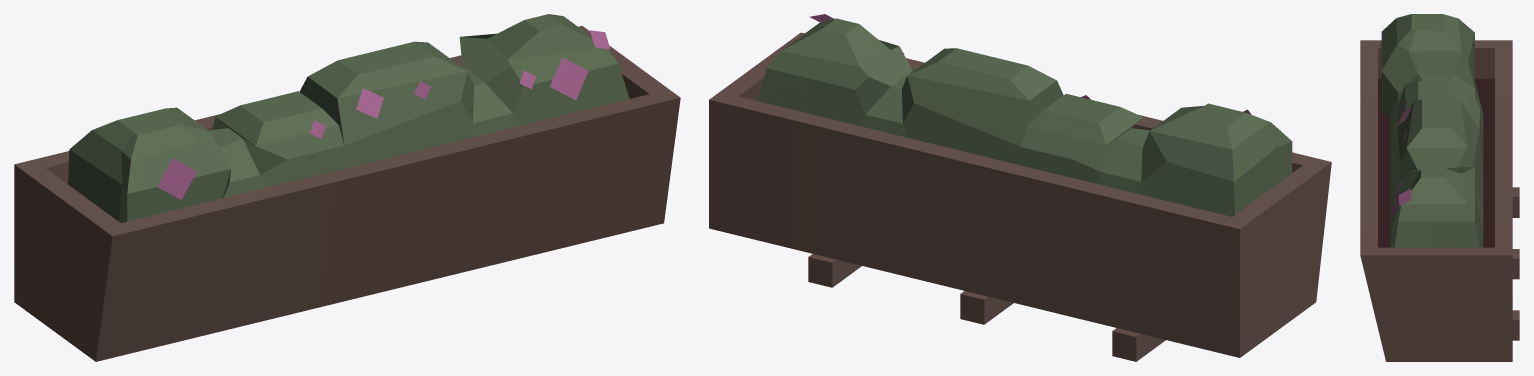
The model's file is B02_jardiniere.fbx.
3 renders of one model, left to right at view 1: azimuth 30°, elevation 25°; view 2: azimuth 150°, elevation 25°; view 3: azimuth 270°, elevation 25°, orthographic. The views are drawn at different scales.
Parts seen in each view (by area): view 1: B02_jardiniere; view 2: B02_jardiniere; view 3: B02_jardiniere.
Boxes of the visible parts, x1=… form: B02_jardiniere: x1=14, y1=14, x2=680, y2=361; B02_jardiniere: x1=709, y1=14, x2=1331, y2=361; B02_jardiniere: x1=1360, y1=14, x2=1519, y2=361.
Bounding box in the file's own units: 208 × 79.66 × 65.4.
